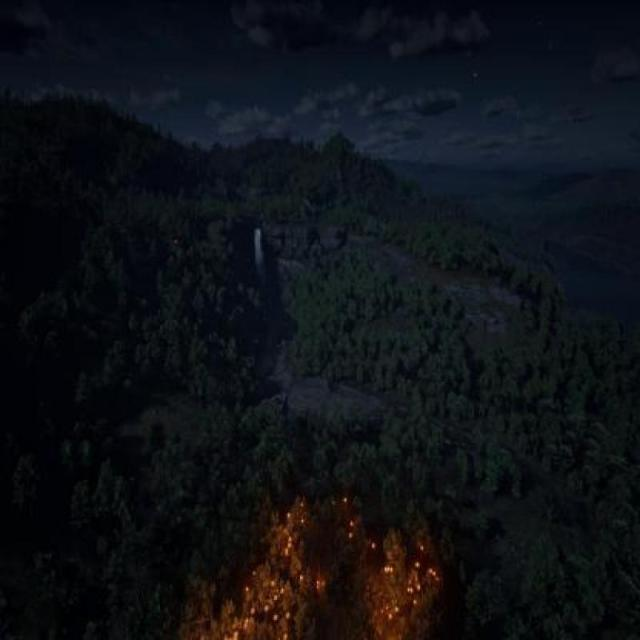Fire: (273, 505, 324, 640), (366, 552, 444, 640), (200, 588, 272, 640), (343, 484, 375, 556)
